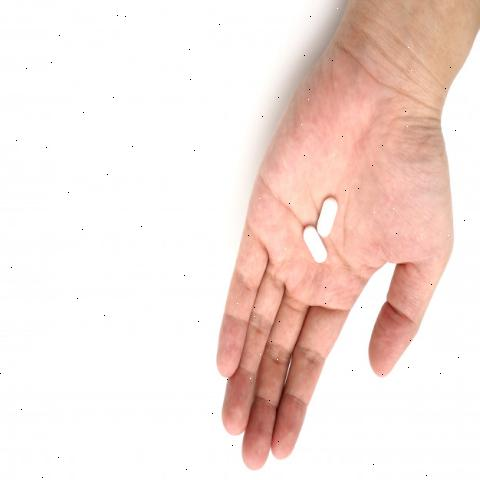Pill: (288, 220, 330, 270), (310, 191, 342, 246)
